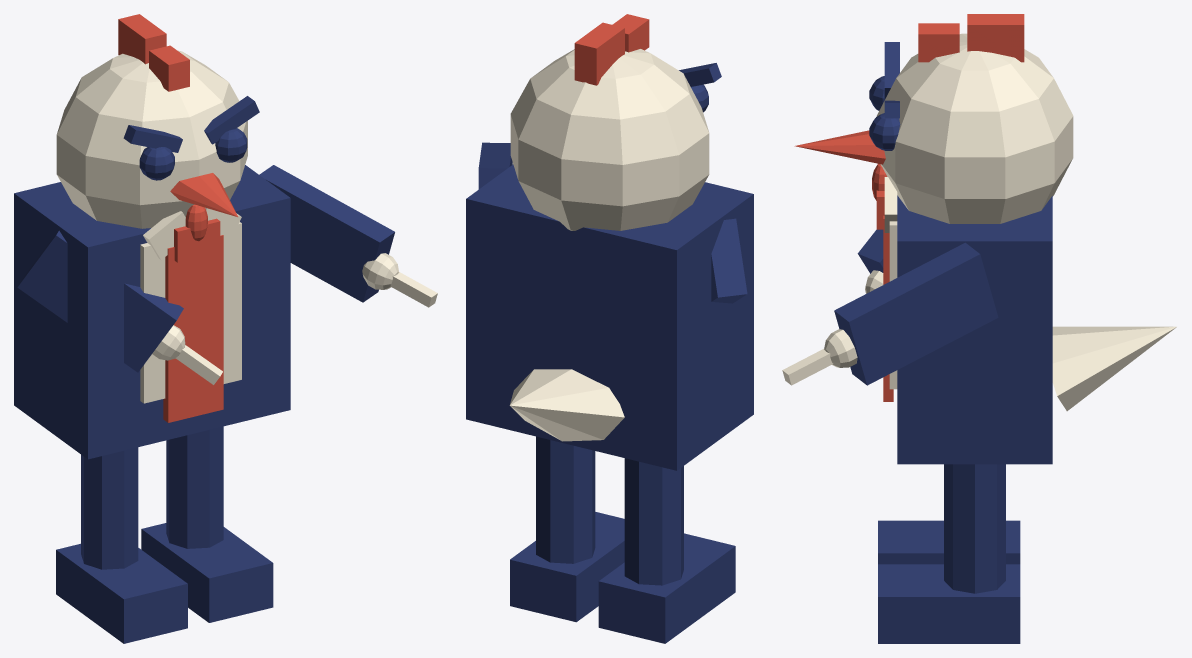
3 renders of one model, left to right at view 1: azimuth 30°, elevation 25°; view 2: azimuth 150°, elevation 25°; view 3: azimuth 270°, elevation 25°, orthographic. The views are drawn at different scales.
Parts seen in each view (by area): view 1: Body, Head, ShoeR, ArmL, Tie, ShoeL, LegR, LegL, ArmR, Shirt, Comb, Beak (+12 smaller); view 2: Body, Head, ShoeR, LegR, LegL, ShoeL, Tail, ArmR, Comb, ArmL, CombFront, BrowR; view 3: Body, Head, ArmL, ShoeL, LegL, Tail, ShoeR, Comb, Beak, CombFront, HandL, FingerL (+6 smaller).
Boxes of the visible parts, left/top/right/bottom form: Body: left=14, top=165, right=290, bottom=459; Head: left=56, top=50, right=247, bottom=228; ShoeR: left=56, top=543, right=187, bottom=643; ArmL: left=259, top=165, right=394, bottom=302; Tie: left=163, top=235, right=223, bottom=422; ShoeL: left=141, top=523, right=273, bottom=622; LegR: left=81, top=447, right=138, bottom=569; LegL: left=166, top=426, right=223, bottom=548; ArmR: left=17, top=230, right=183, bottom=372; Shirt: left=140, top=222, right=241, bottom=403; Comb: left=118, top=14, right=166, bottom=64; Beak: left=170, top=173, right=237, bottom=216; Body: left=466, top=164, right=753, bottom=470; Head: left=510, top=49, right=709, bottom=230; ShoeR: left=598, top=533, right=735, bottom=643; LegR: left=624, top=458, right=683, bottom=585; LegL: left=536, top=436, right=595, bottom=563; ShoeL: left=510, top=512, right=624, bottom=622; Tail: left=509, top=369, right=624, bottom=441; ArmR: left=711, top=218, right=747, bottom=303; Comb: left=574, top=22, right=624, bottom=85; ArmL: left=478, top=142, right=512, bottom=189; CombFront: left=612, top=14, right=649, bottom=52; BrowR: left=679, top=63, right=721, bottom=86; Body: left=897, top=195, right=1052, bottom=464; Head: left=876, top=33, right=1073, bottom=223; ArmL: left=834, top=242, right=998, bottom=385; ShoeL: left=878, top=564, right=1020, bottom=643; LegL: left=944, top=464, right=1005, bottom=593; Tail: left=1052, top=326, right=1176, bottom=411; ShoeR: left=878, top=520, right=1020, bottom=564; Comb: left=967, top=14, right=1024, bottom=62; Beak: left=794, top=130, right=885, bottom=164; CombFront: left=918, top=23, right=959, bottom=62; HandL: left=824, top=329, right=857, bottom=367; FingerL: left=782, top=349, right=833, bottom=385.
Bounding box in the file's own units: 1.55 × 2.5 × 1.53.
